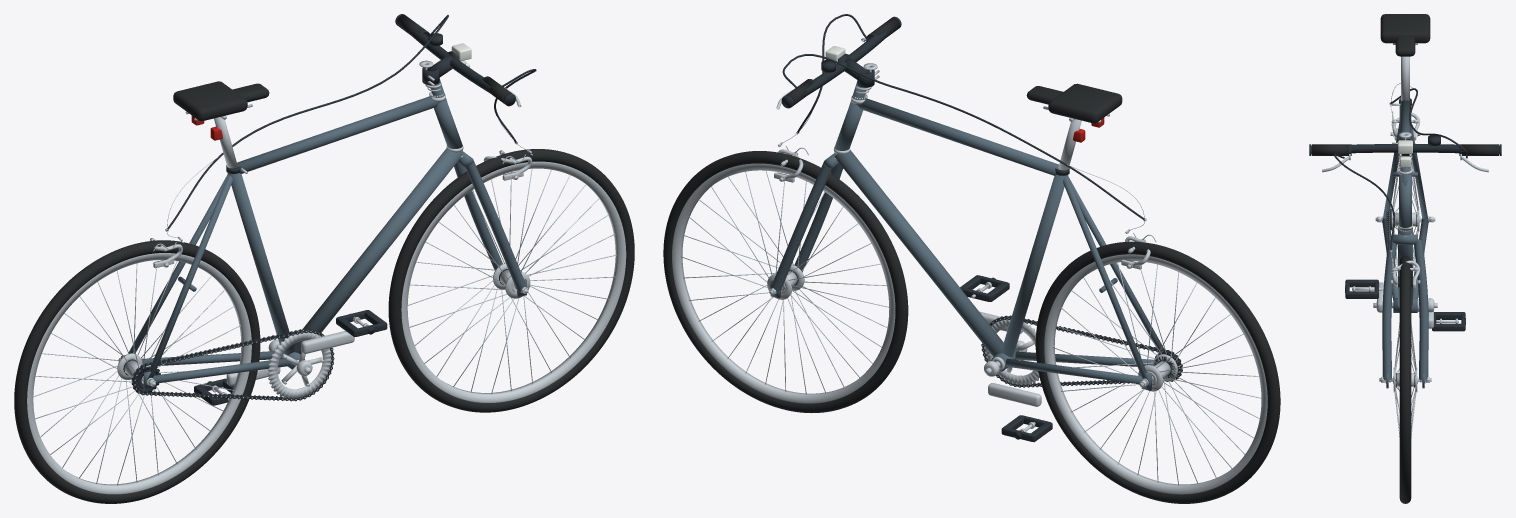
Rendered from assembly.glb.
The picture shows the model from 3 angles, left to right: view 1: azimuth 30°, elevation 25°; view 2: azimuth 150°, elevation 25°; view 3: azimuth 270°, elevation 25°; orthographic projection. The views are drawn at different scales.
Visible parts, largest first — view 1: frame, front-tire, rear-tire, front-rim, rear-rim, fork, saddle, chainring, brake-housing-rear, crank-right, bar, pedal-body-right; view 2: frame, rear-tire, front-tire, front-rim, rear-rim, fork, saddle, brake-housing-rear, chainring, crank-left, bar, pedal-body-left (+2 smaller); view 3: front-tire, fork, frame, saddle, bar, pedal-body-right, pedal-body-left, grip-1, grip--1, seatpost, brake-housing-front, brake-housing-rear (+2 smaller).
Part boxes in pixels (<box>): frame: <box>121,96,463,390</box>; front-tire: <box>388,149,634,412</box>; rear-tire: <box>14,240,260,503</box>; front-rim: <box>401,161,626,402</box>; rear-rim: <box>27,253,251,494</box>; fork: <box>430,79,526,297</box>; saddle: <box>173,81,269,121</box>; chainring: <box>267,330,331,398</box>; brake-housing-rear: <box>167,15,448,230</box>; crank-right: <box>296,331,354,375</box>; bar: <box>407,28,492,93</box>; pedal-body-right: <box>336,310,387,336</box>; frame: <box>833,98,1163,390</box>; rear-tire: <box>1035,241,1280,503</box>; front-tire: <box>663,151,908,413</box>; front-rim: <box>672,163,895,403</box>; rear-rim: <box>1044,254,1267,494</box>; fork: <box>770,81,866,298</box>; saddle: <box>1026,83,1122,123</box>; brake-housing-rear: <box>782,54,1144,220</box>; chainring: <box>984,317,1039,385</box>; crank-left: <box>984,361,1041,406</box>; bar: <box>804,31,889,95</box>; pedal-body-left: <box>1001,415,1052,442</box>; front-tire: <box>1399,256,1411,503</box>; fork: <box>1382,167,1428,388</box>; frame: <box>1382,100,1428,312</box>; saddle: <box>1380,14,1430,56</box>; bar: <box>1311,144,1499,154</box>; pedal-body-right: <box>1345,279,1378,298</box>; pedal-body-left: <box>1432,312,1465,331</box>; grip-1: <box>1312,144,1349,155</box>; grip--1: <box>1461,144,1498,155</box>; seatpost: <box>1401,56,1409,100</box>; brake-housing-front: <box>1334,153,1394,250</box>; brake-housing-rear: <box>1390,88,1468,158</box>.
Bounding box in the file's own units: 1.74 × 1.04 × 0.531.
